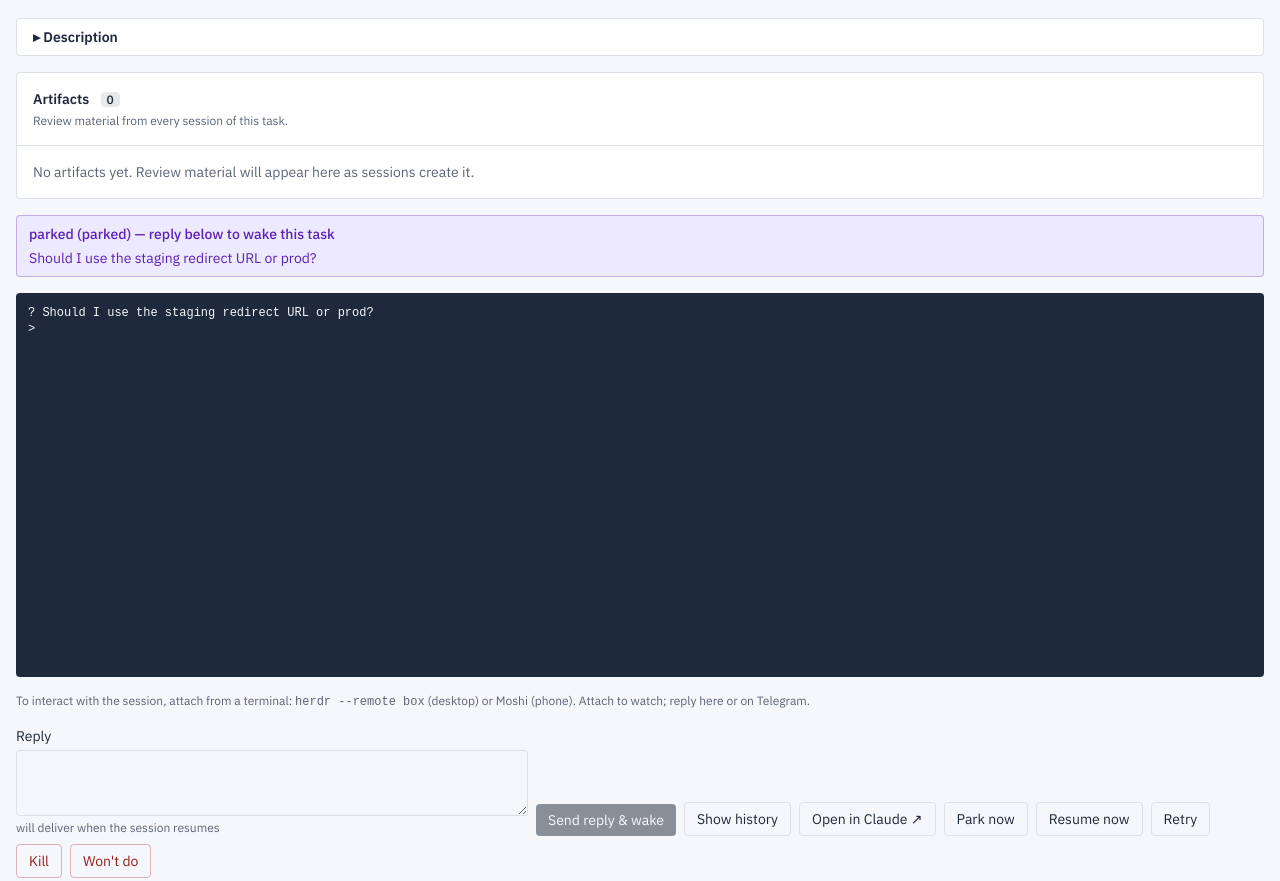
Test: a failing intent surfaces the API detail inline instead of looking like success
The image size is (1280, 881).
(page scrolled)
Click the button "Kill" at coordinates (39, 861), box x1=16 y1=844 x2=62 y2=878
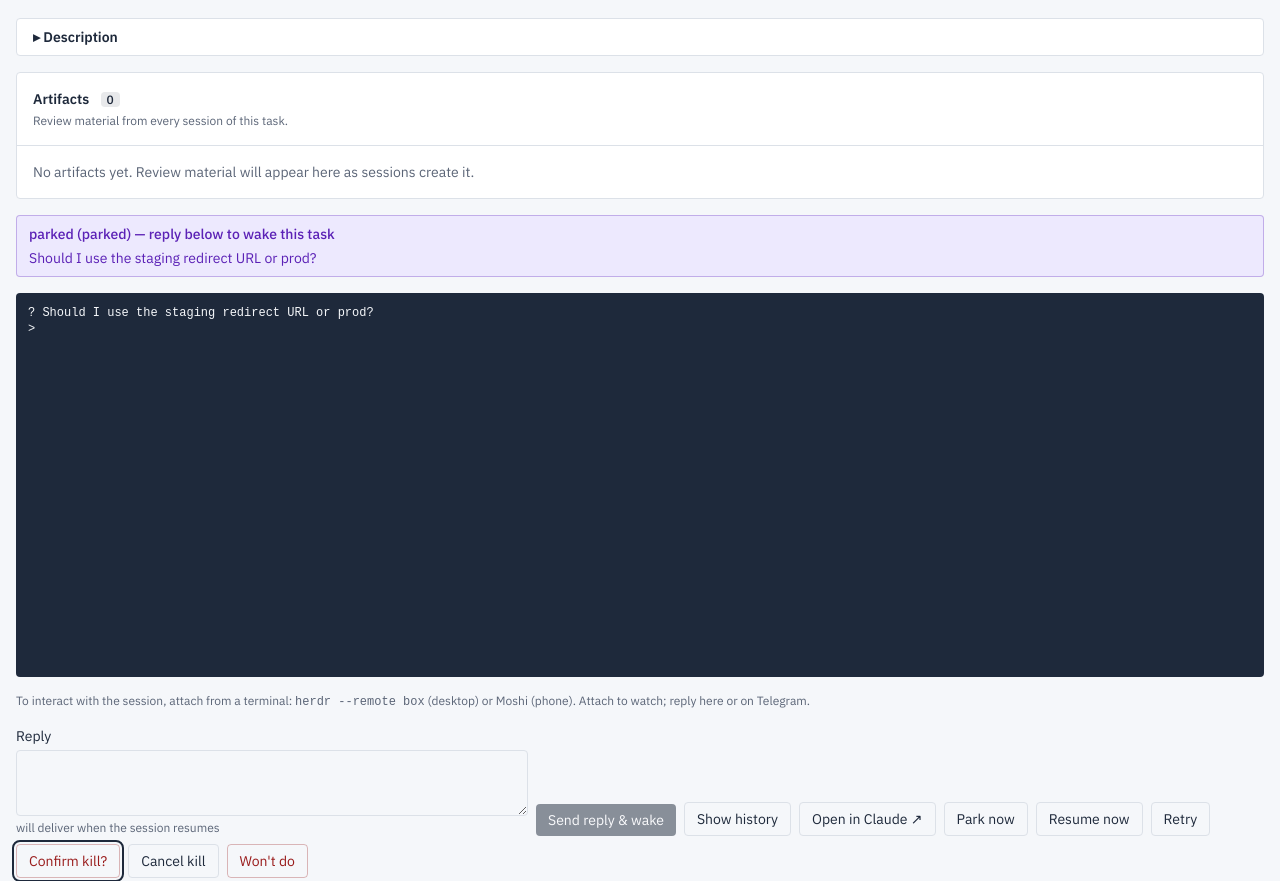
Click the button "Confirm kill?" at coordinates (68, 861), box x1=16 y1=844 x2=120 y2=878
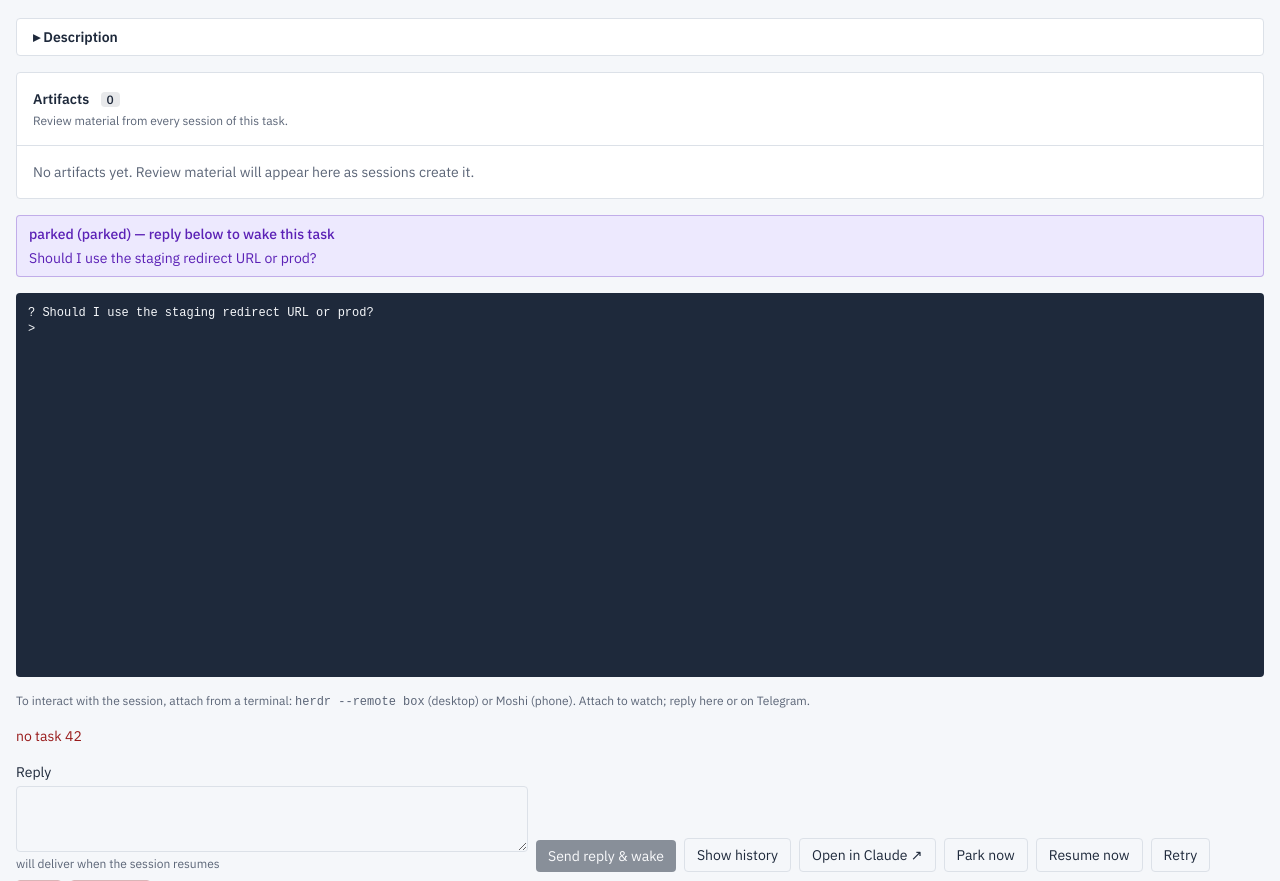
Expected: the text with test id "action-error" reads "no task 42", x1=16 y1=727 x2=82 y2=745
